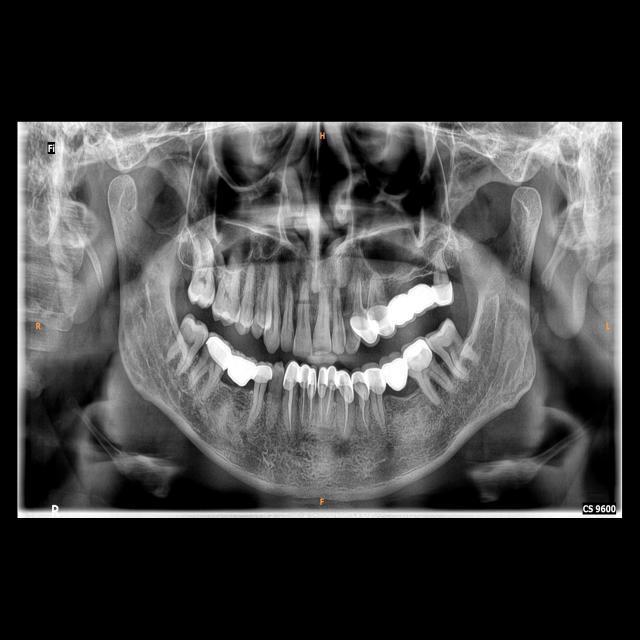kanal-tedavisi: (355, 401, 373, 434), (305, 386, 318, 424), (340, 394, 352, 435), (284, 391, 296, 430), (299, 384, 309, 427), (326, 387, 336, 424), (317, 385, 326, 422)
kaplama: (400, 337, 434, 374), (202, 330, 233, 369), (348, 311, 379, 346), (369, 305, 397, 342), (428, 281, 456, 308), (332, 369, 355, 400), (350, 370, 372, 398), (253, 357, 273, 387), (366, 367, 386, 397), (285, 362, 299, 396), (315, 364, 329, 395), (296, 362, 310, 392), (308, 367, 319, 398), (326, 360, 337, 390)
kopru: (382, 276, 449, 331), (214, 343, 272, 398), (374, 345, 429, 397)
